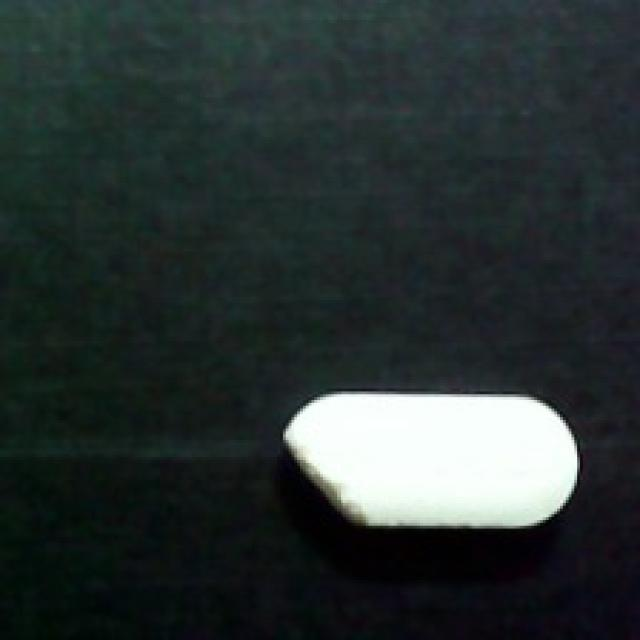defected: (274, 380, 589, 531)
